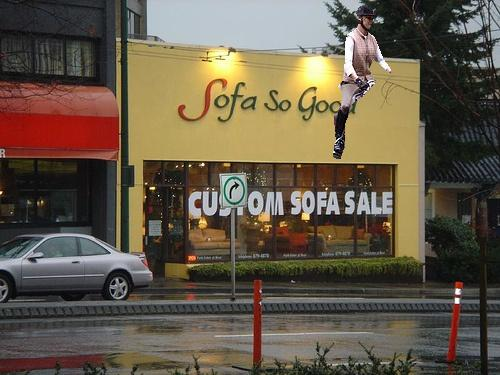tampered: (334, 5, 391, 159)
